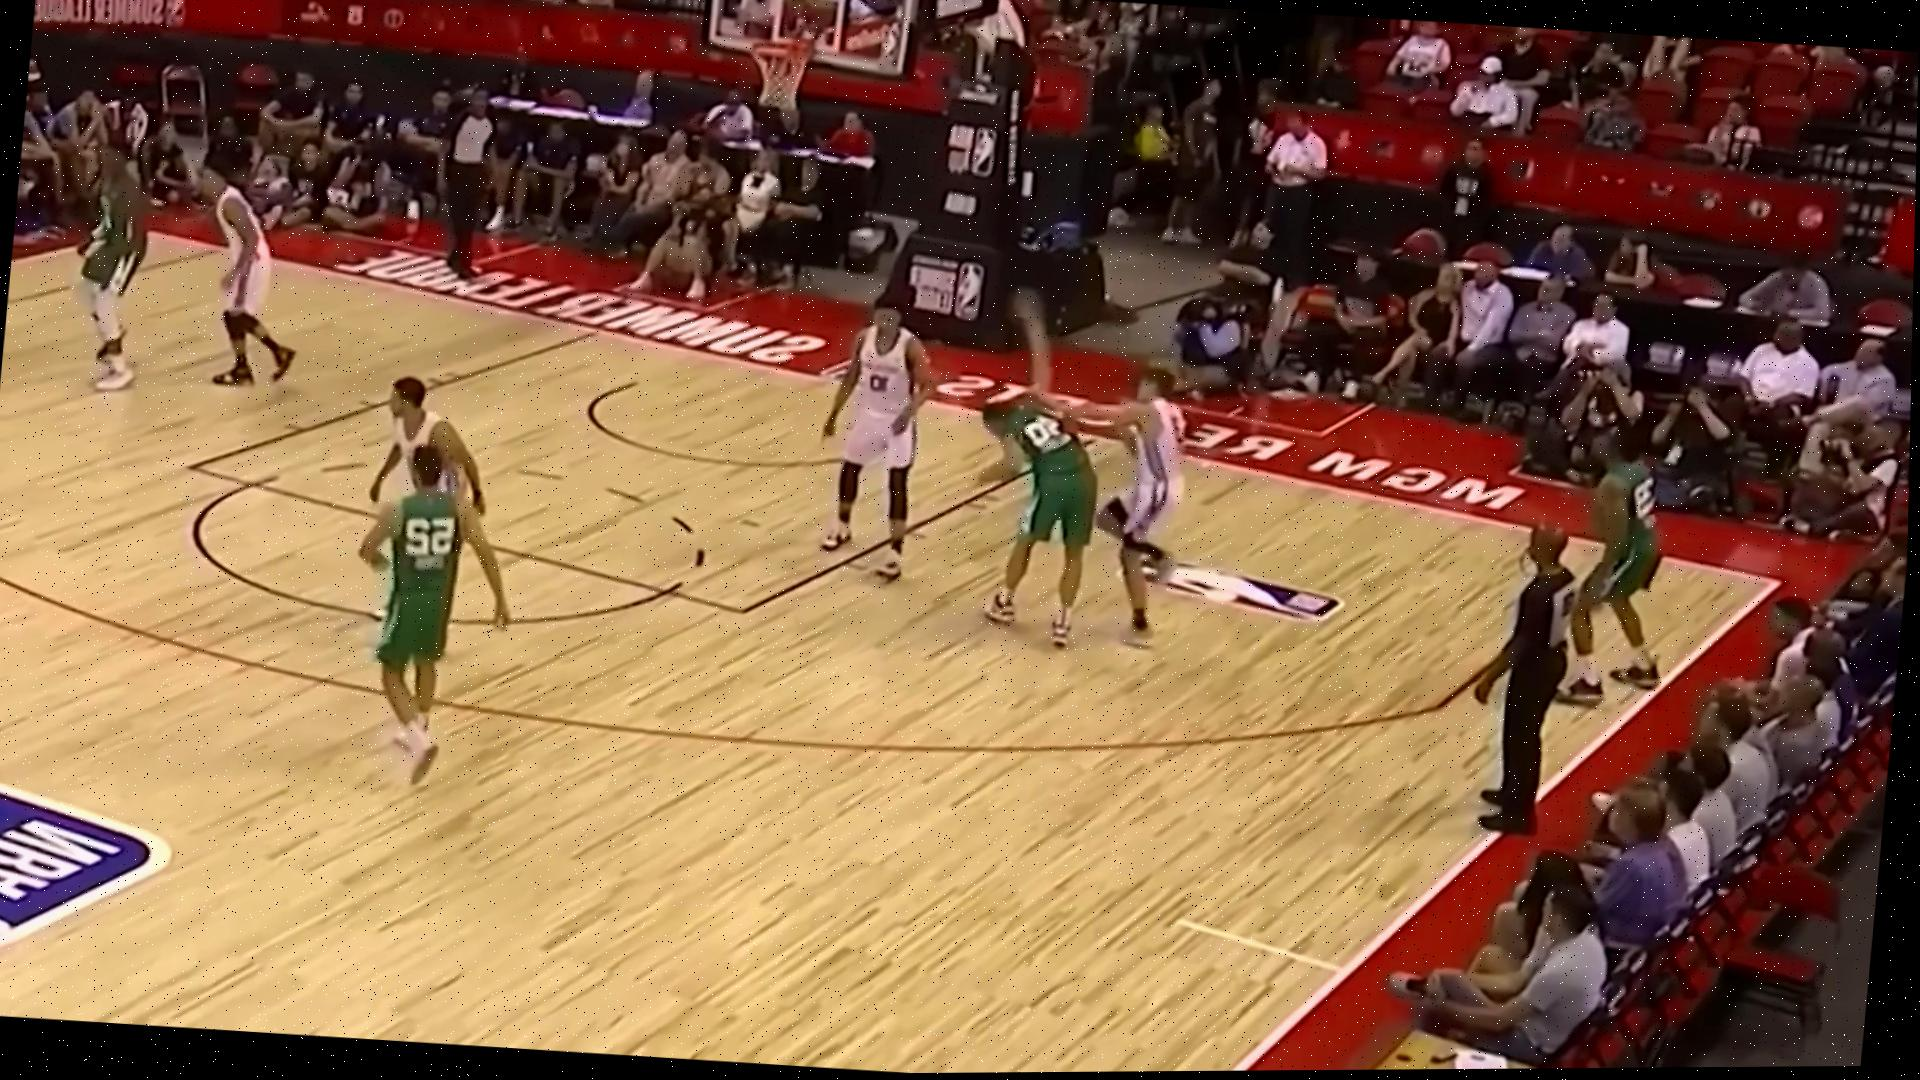foul: (897, 320, 1217, 683)
